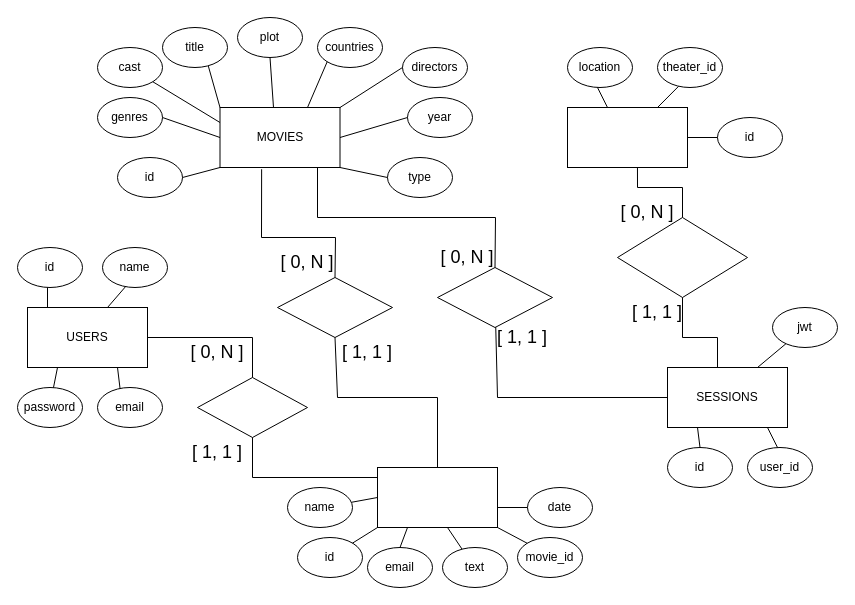
Image size: 855x605. Some labels were removed from this diagram. The centre of each missing label's shape, as x and y in pixels:
"COMMENTS" goes at pixel 437 497.
"Diputar" goes at pixel 494 297.
"Memiliki" goes at pixel 334 307.
"Menulis" goes at pixel 252 407.
"Menyelenggarakan" goes at pixel 682 257.
"THEATERS" goes at pixel 627 137.
